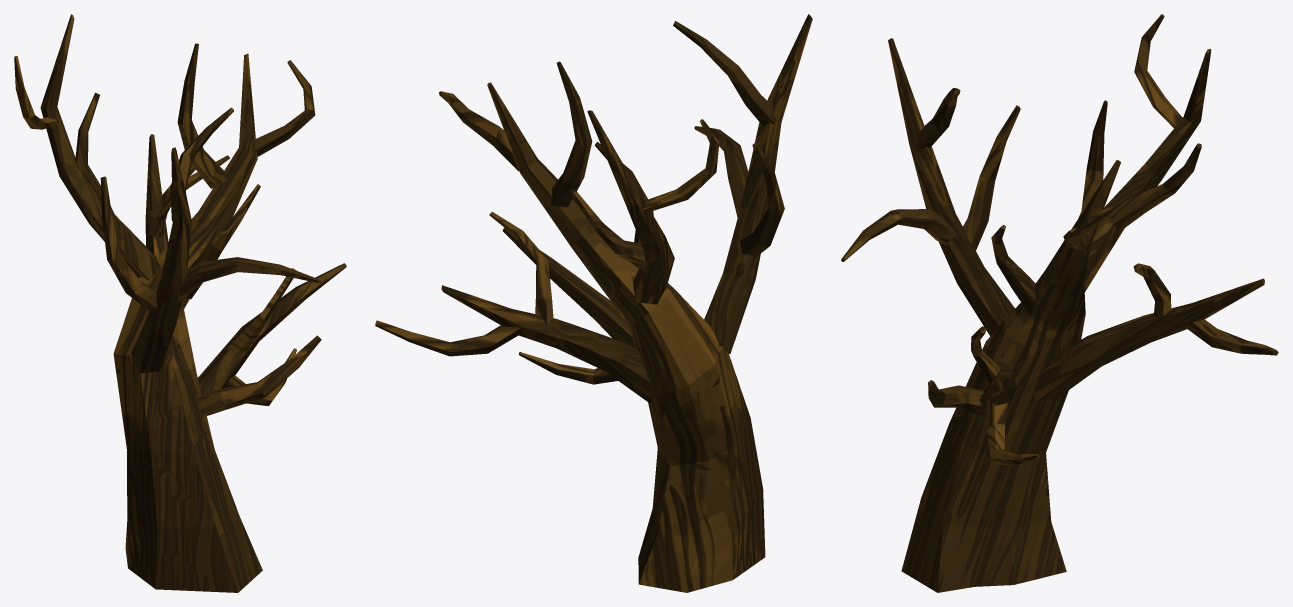
File: Dead_Bush5.fbx
3 renders of one model, left to right at view 1: azimuth 30°, elevation 25°; view 2: azimuth 150°, elevation 25°; view 3: azimuth 270°, elevation 25°, orthographic. The views are drawn at different scales.
Visible parts, largest first — view 1: Dead_Bush_5; view 2: Dead_Bush_5; view 3: Dead_Bush_5.
Boxes of the visible parts, x1,y1,x2,y2 form: Dead_Bush_5: [14, 14, 346, 592]; Dead_Bush_5: [375, 14, 812, 592]; Dead_Bush_5: [841, 14, 1278, 592].
Size of the model in its own units: 21.95 by 28.99 by 37.38.
